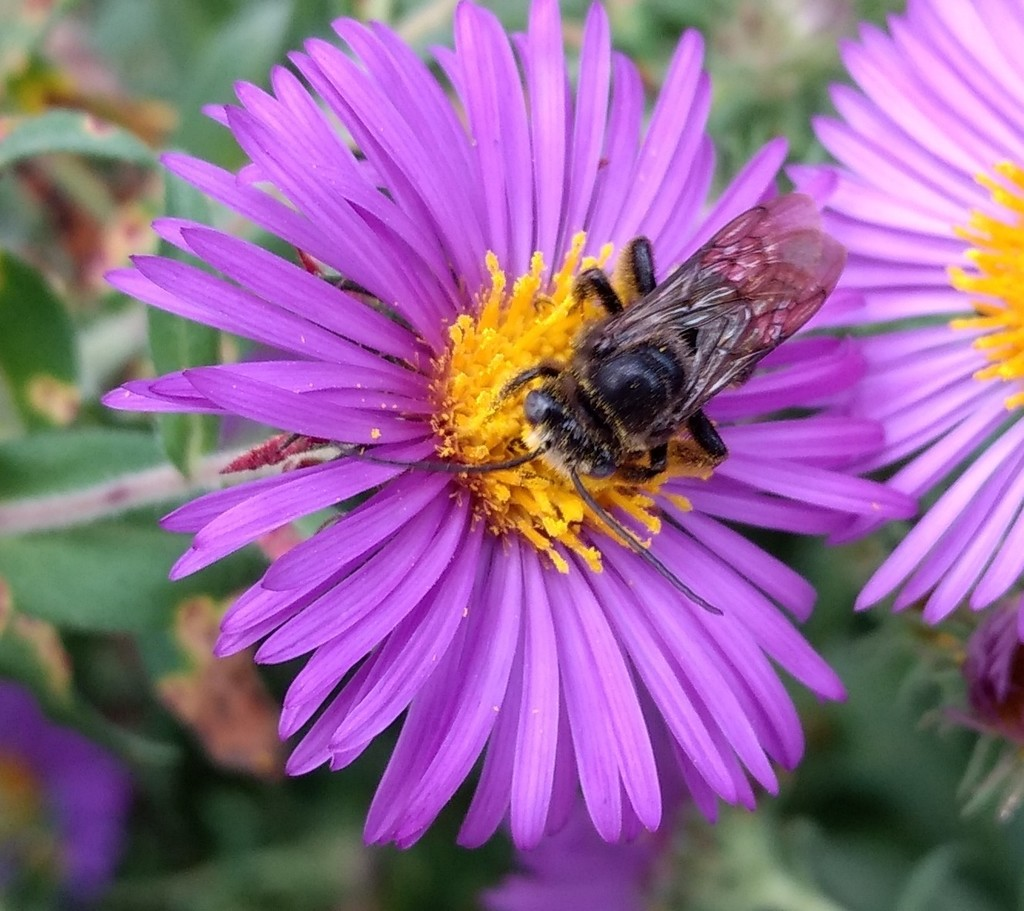not_bumblebee: (336, 188, 849, 619)
